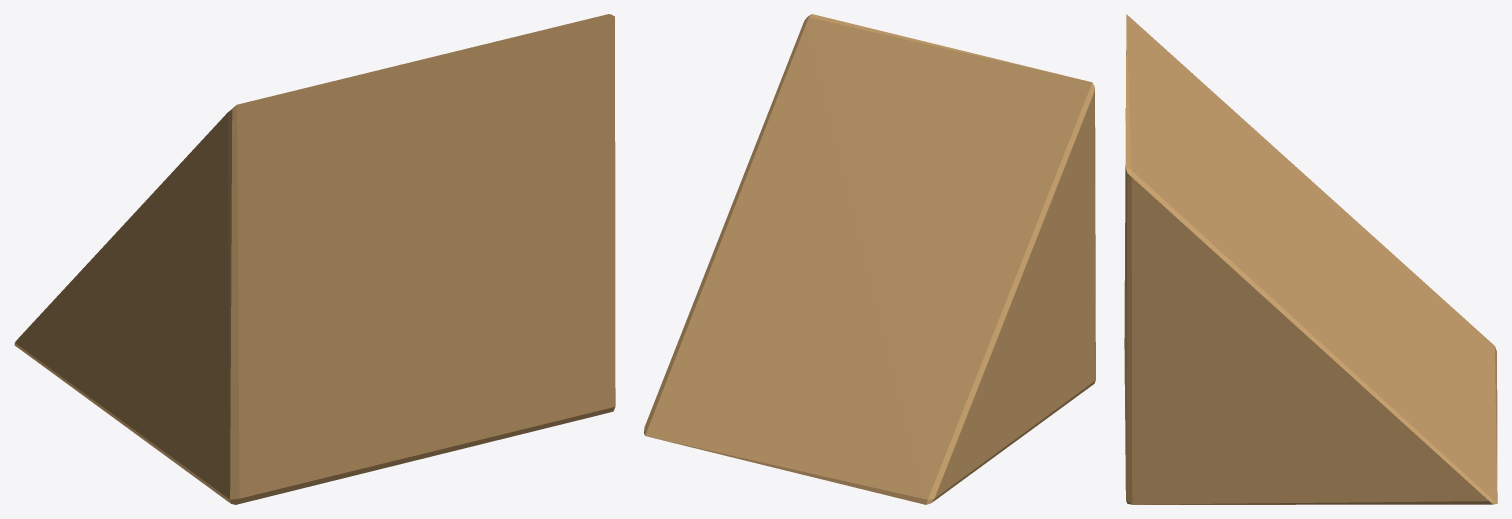
The model's file is item_ramp.glb.
3 renders of one model, left to right at view 1: azimuth 30°, elevation 25°; view 2: azimuth 150°, elevation 25°; view 3: azimuth 270°, elevation 25°, orthographic. The views are drawn at different scales.
Visible parts, largest first — view 1: item_ramp_part_0; view 2: item_ramp_part_0; view 3: item_ramp_part_0.
Boxes of the visible parts, x1,y1,x2,y2 form: item_ramp_part_0: [14, 14, 615, 504]; item_ramp_part_0: [644, 14, 1095, 504]; item_ramp_part_0: [1124, 14, 1497, 504].
Size of the model in its own units: 1.99 by 1.98 by 1.98.
